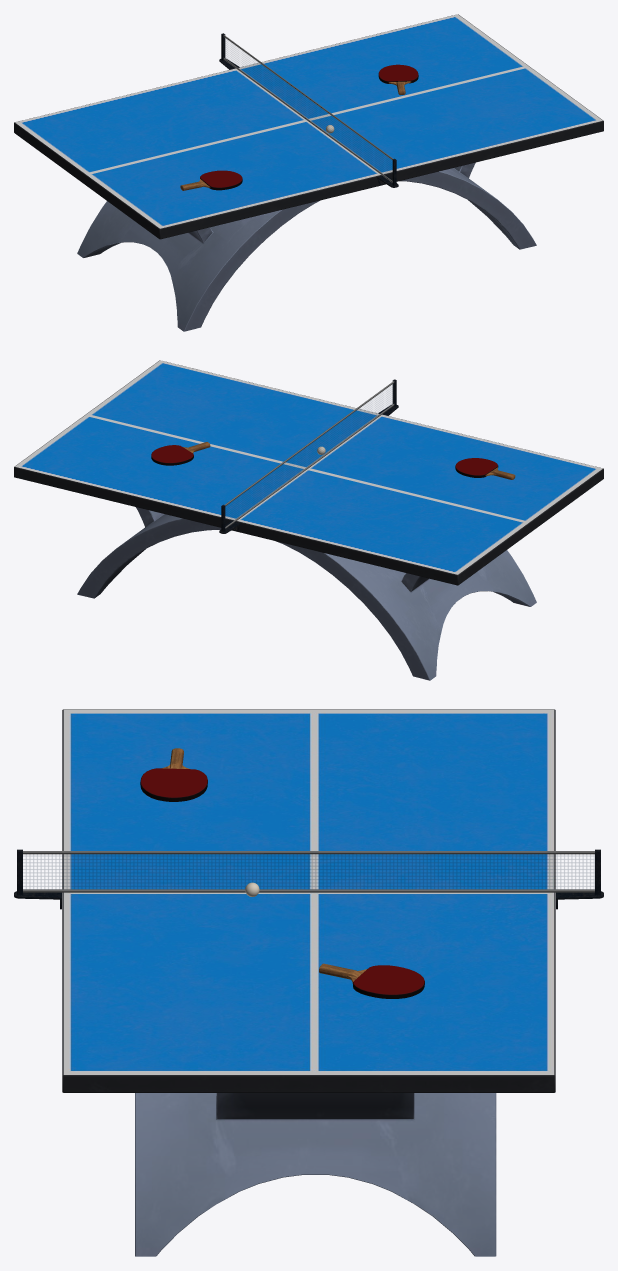
File: ping_pong.glb
3 renders of one model, top to bottom at view 1: azimuth 30°, elevation 25°; view 2: azimuth 150°, elevation 25°; view 3: azimuth 270°, elevation 25°, orthographic. The views are drawn at different scales.
Visible parts, largest first — view 1: ping pong; view 2: ping pong; view 3: ping pong.
Boxes of the visible parts, x1,y1,x2,y2 form: ping pong: (14, 14, 603, 331); ping pong: (14, 360, 603, 680); ping pong: (14, 709, 603, 1256).
Size of the model in its own units: 2.72 by 0.903 by 1.85.
Materials: 2 (2 with a texture image).
